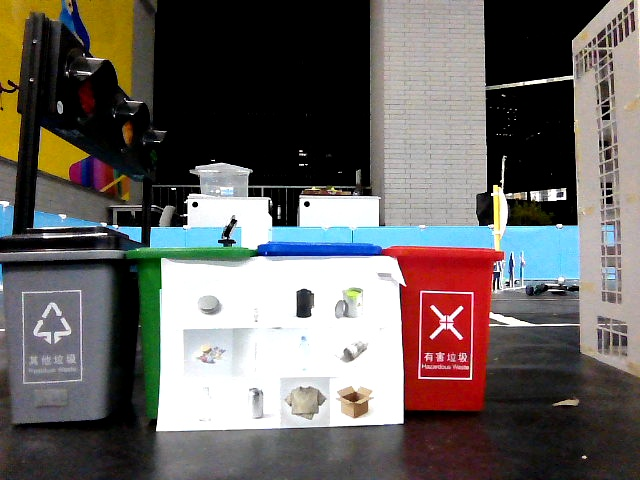hazardous_trash: (233, 278, 281, 328), (234, 331, 281, 376), (186, 281, 231, 327), (187, 332, 233, 372), (282, 282, 324, 325), (329, 282, 372, 323)
recyclable_trash: (281, 377, 330, 425), (333, 375, 380, 424), (281, 328, 324, 376), (330, 327, 376, 371), (234, 379, 278, 425), (186, 387, 231, 422)
